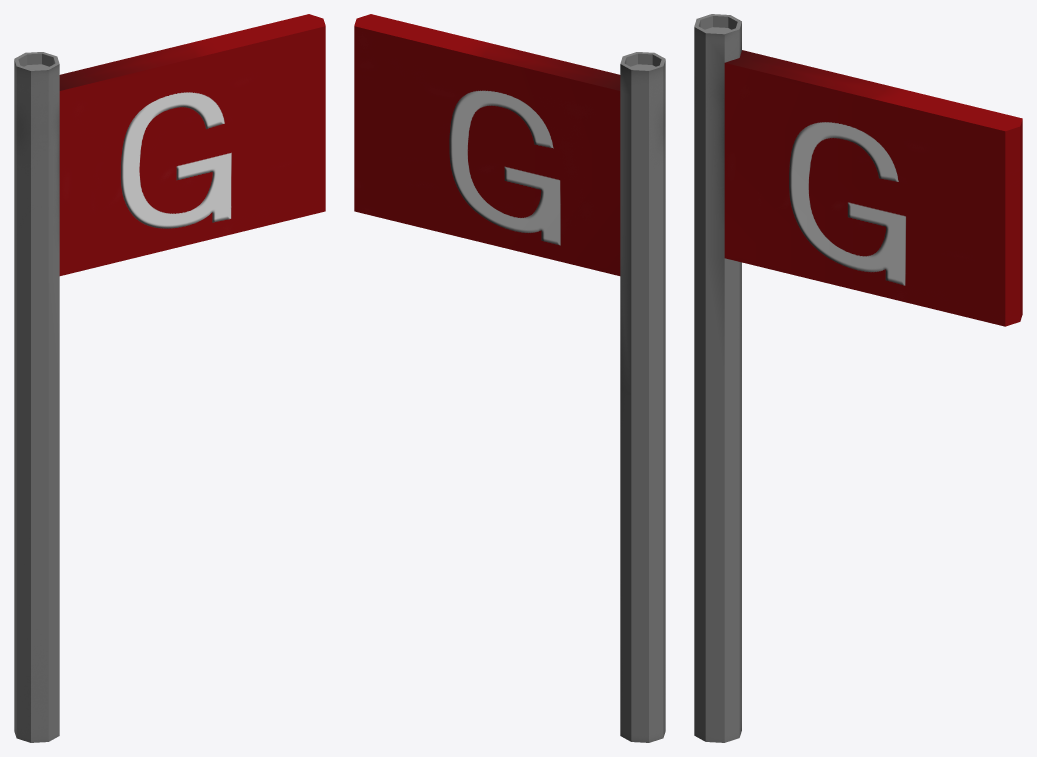
The model's file is Goal.fbx.
3 views of the same model, side by side, from view 1: azimuth 30°, elevation 25°; view 2: azimuth 150°, elevation 25°; view 3: azimuth 330°, elevation 25° (orthographic). The views are drawn at different scales.
Parts seen in each view (by area): view 1: pCylinder1; view 2: pCylinder1; view 3: pCylinder1.
Part boxes in pixels (x1,y1,x2,y2): pCylinder1: [14, 14, 325, 742]; pCylinder1: [354, 14, 665, 742]; pCylinder1: [694, 14, 1022, 742].
Size of the model in its own units: 15.06 by 31.5 by 2.
